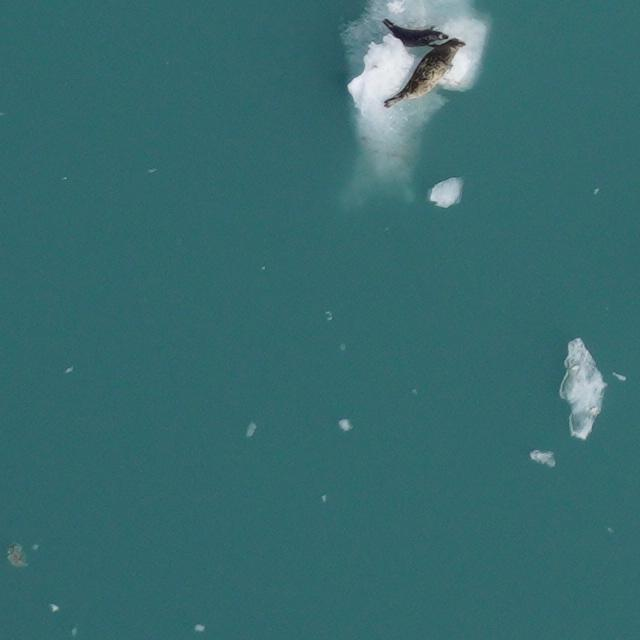seal: (381, 28, 473, 124), (376, 17, 450, 53)
